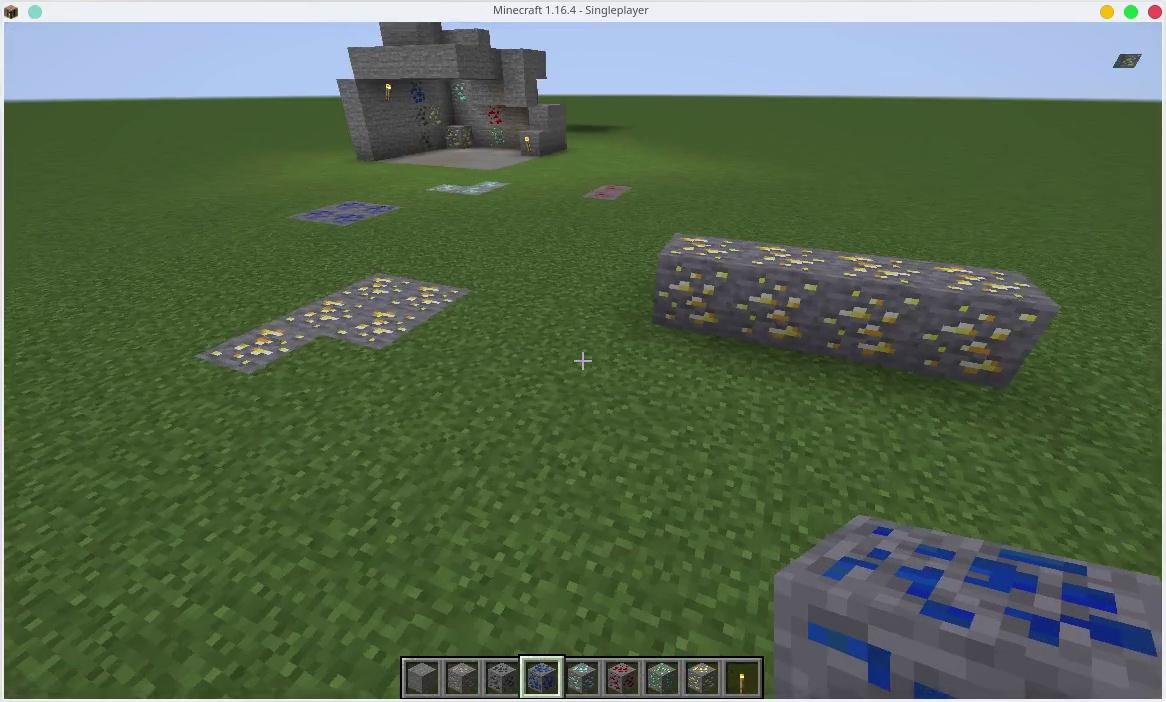gold: (928, 272, 1026, 381), (835, 249, 919, 367), (741, 240, 830, 347), (667, 233, 733, 334), (348, 309, 422, 346), (218, 324, 291, 361), (300, 293, 352, 325), (406, 283, 462, 310), (353, 268, 398, 300), (687, 665, 716, 695), (441, 122, 472, 148), (426, 107, 439, 125)
